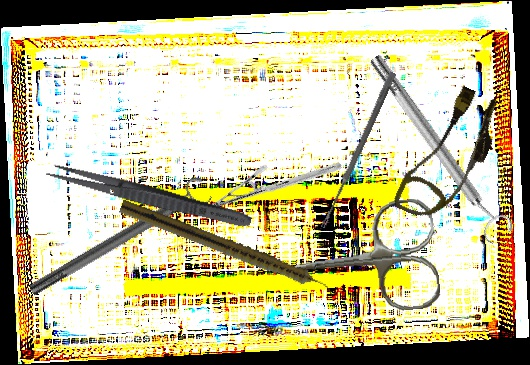Cannula: (391, 78, 509, 233)
Dressing Forceps: (44, 159, 254, 233)
Fixation Ring: (361, 46, 517, 248), (22, 173, 215, 304)
Handpiece: (117, 198, 338, 300)
Iris Scissors: (284, 197, 442, 322)
Needle Holder: (203, 116, 343, 259)
Surgical Spoon: (319, 70, 397, 230)
